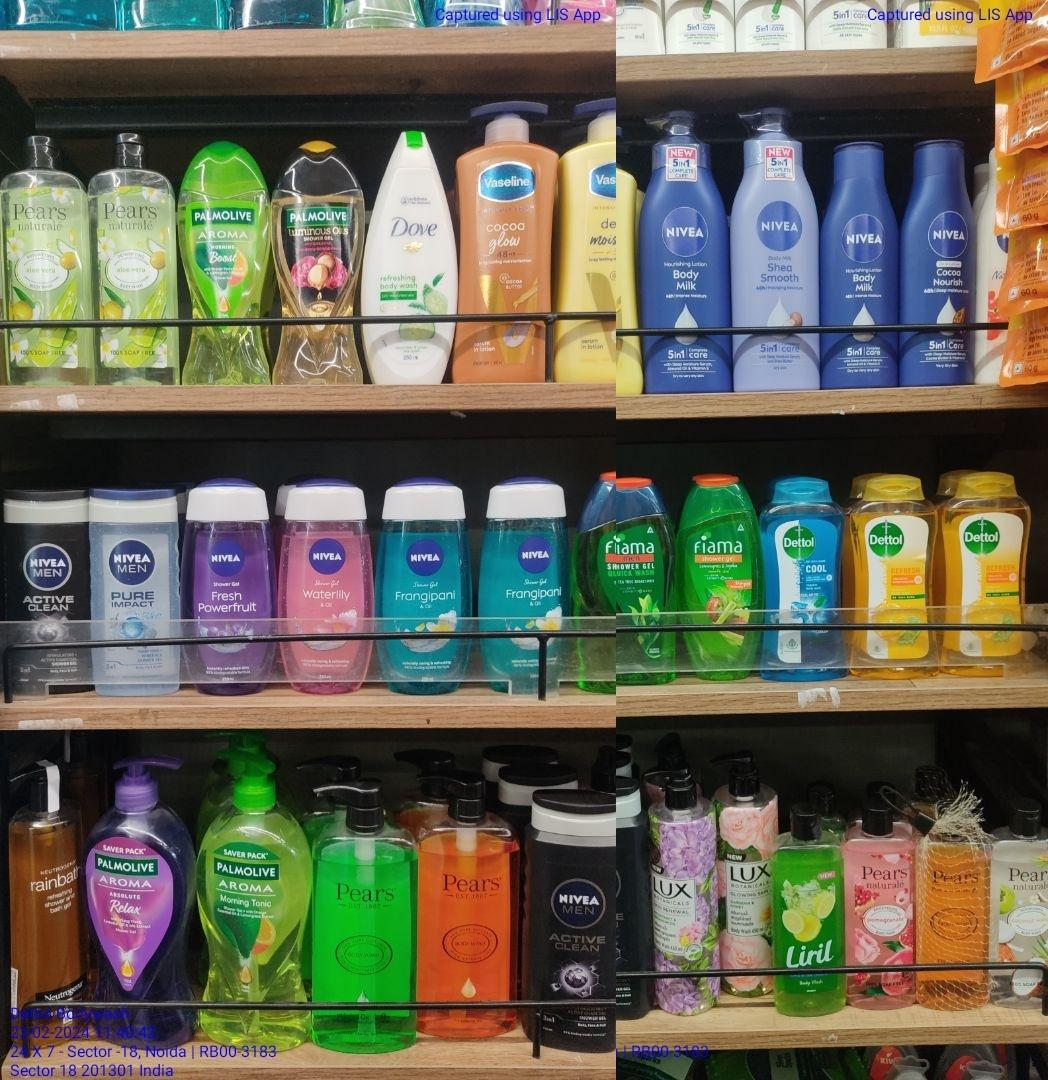Dettol_Bodywash_Cool: (760, 478, 843, 681)
Dettol_Bodywash_Refresh: (849, 474, 939, 679), (941, 471, 1031, 672)
Dove_Refreshing_Body_Wash_250ML: (364, 131, 452, 389)
Fiama_Shower_Gel_Lemongrass_and_Jojoba_250ML: (686, 474, 756, 682)
Liril_Lime_and_Tea_Tree_Oil_Body_Wash_250ML: (775, 804, 849, 1017)
Nivea_Shower_Gel_Frangipani_and_Oil_250ML: (379, 480, 471, 693), (483, 481, 567, 693)
Nivea_Shower_Gel_Fresh_Powerfruit_250ML: (184, 482, 275, 699)
Nivea_Shower_Gel_Waterlily_and_Oil_250ML: (280, 487, 373, 694)
Palmolive_Aroma_Morning_Tonic_Shower_Gel_250ML: (181, 143, 269, 385)
Palmolive_Luminous_Oils_Invigorating_Macadamia_Oil_With_Peony_250ML: (270, 140, 362, 384)
